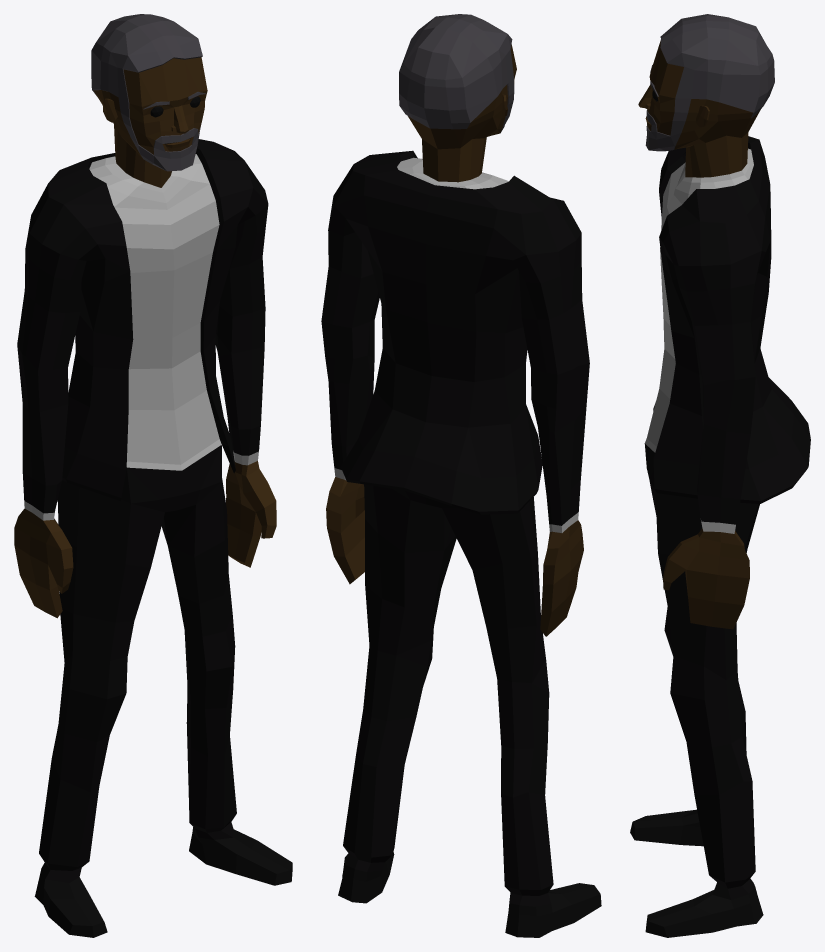
File: adult.obj
3 views of the same model, side by side, from view 1: azimuth 30°, elevation 25°; view 2: azimuth 150°, elevation 25°; view 3: azimuth 270°, elevation 25° (orthographic). The views are drawn at different scales.
Parts seen in each view (by area): view 1: BaseHuman_Cylinder.002; view 2: BaseHuman_Cylinder.002; view 3: BaseHuman_Cylinder.002.
Part boxes in pixels (box(x1,y1,x2,y2)): BaseHuman_Cylinder.002: box(14, 14, 292, 937); BaseHuman_Cylinder.002: box(321, 14, 601, 937); BaseHuman_Cylinder.002: box(630, 14, 810, 937).
Bounding box in the file's own units: 1.42 × 4.83 × 0.9217.
